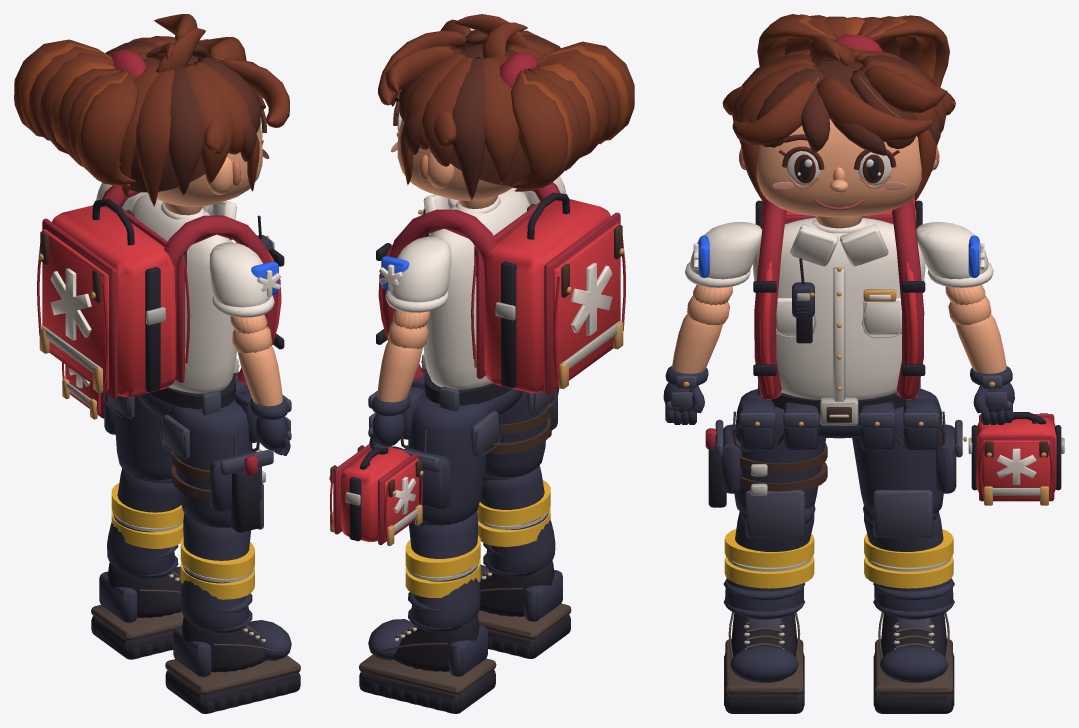
File: npc.paramedic.glb
The picture shows the model from 3 angles, left to right: view 1: azimuth 30°, elevation 25°; view 2: azimuth 150°, elevation 25°; view 3: azimuth 270°, elevation 25°; orthographic projection.
Parts seen in each view (by area): view 1: head, torso, legR, footR, shinR, shinL, footL, armR, legL, foreArmR, hip, handL (+1 smaller); view 2: torso, head, footL, handL, legL, shinL, shinR, footR, armL, legR, foreArmL, hip; view 3: head, torso, legR, hip, handL, legL, footL, footR, shinR, shinL, armL, armR (+3 smaller).
Part boxes in pixels (x1,y1,x2,y2): head: [14, 14, 289, 215]; torso: [37, 185, 284, 399]; legR: [159, 395, 273, 532]; footR: [165, 617, 300, 713]; shinR: [180, 513, 254, 633]; shinL: [107, 468, 184, 578]; footL: [91, 562, 183, 659]; armR: [209, 242, 280, 333]; legL: [103, 392, 172, 480]; foreArmR: [232, 326, 291, 419]; hip: [138, 358, 259, 451]; handL: [62, 362, 104, 419]; torso: [376, 182, 625, 395]; head: [378, 14, 634, 208]; footL: [359, 616, 496, 713]; handL: [329, 412, 423, 545]; legL: [389, 391, 501, 525]; shinL: [405, 511, 480, 632]; shinR: [477, 465, 555, 577]; footR: [477, 561, 571, 658]; armL: [379, 236, 451, 329]; legR: [485, 388, 559, 477]; foreArmL: [368, 321, 428, 416]; hip: [400, 354, 522, 448]; head: [722, 14, 955, 228]; torso: [753, 195, 925, 401]; legR: [705, 389, 827, 537]; hip: [732, 379, 945, 451]; handL: [968, 382, 1064, 505]; legL: [852, 389, 966, 537]; footL: [873, 612, 954, 713]; footR: [724, 612, 804, 713]; shinR: [723, 505, 815, 619]; shinL: [863, 505, 954, 619]; armL: [916, 222, 993, 305]; armR: [685, 221, 762, 305].
Size of the model in its own units: 0.591 by 1.8 by 1.01.
